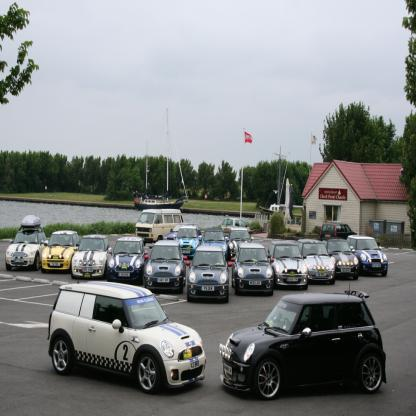Car: (218, 296, 391, 407), (47, 280, 208, 397), (188, 246, 233, 304), (146, 238, 190, 294), (4, 222, 51, 274), (231, 243, 275, 297), (267, 239, 309, 290), (345, 235, 388, 280), (71, 234, 113, 279), (110, 238, 150, 284), (43, 227, 81, 275), (297, 239, 337, 283), (322, 240, 362, 280), (175, 224, 203, 260), (204, 227, 229, 259), (320, 223, 354, 245), (226, 228, 252, 255), (220, 218, 253, 238), (167, 223, 184, 243)
